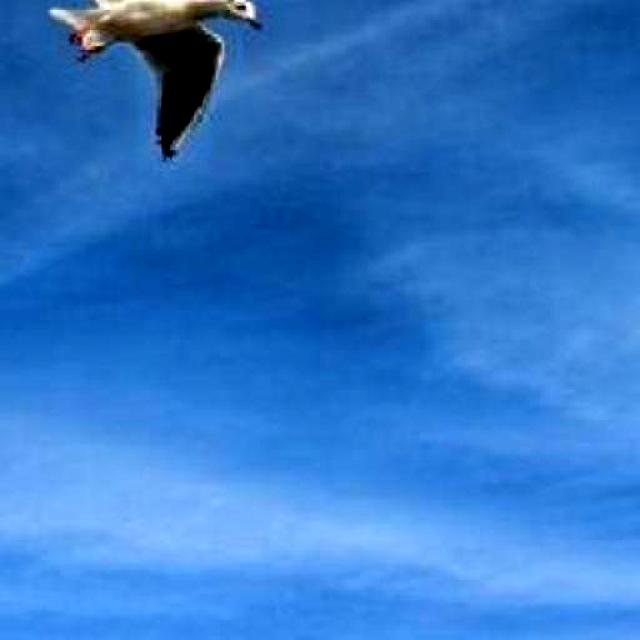airplane: (0, 0, 269, 158)
